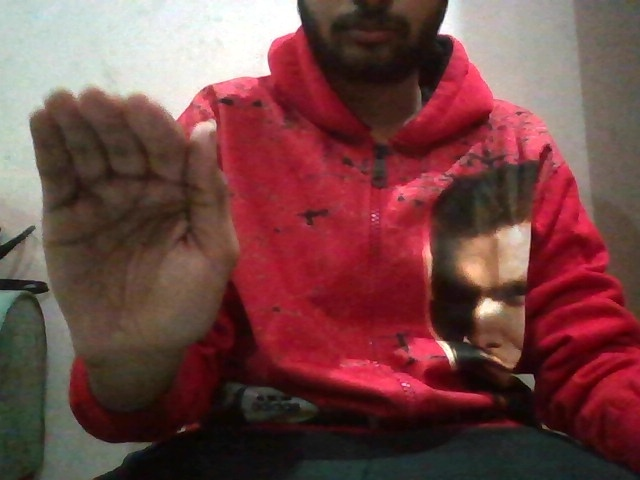C: (16, 79, 265, 365)
